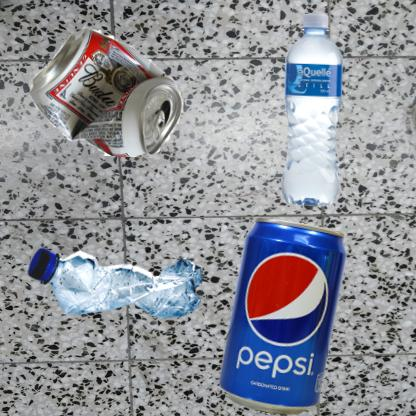botella: (213, 10, 412, 209), (10, 213, 249, 370)
lata: (10, 10, 213, 163), (213, 213, 364, 416)
